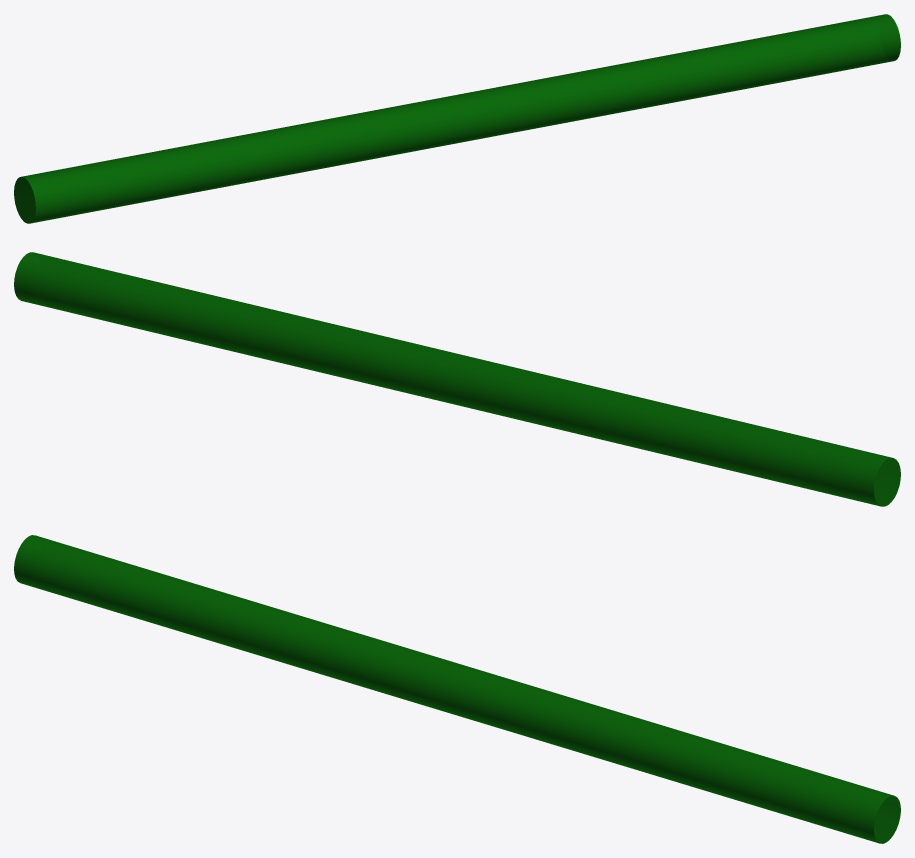
File: Event_194851961_jet_6.fbx
The picture shows the model from 3 angles, top to bottom: view 1: azimuth 30°, elevation 25°; view 2: azimuth 150°, elevation 25°; view 3: azimuth 330°, elevation 25°; orthographic projection. The views are drawn at different scales.
Parts seen in each view (by area): view 1: Model; view 2: Model; view 3: Model.
Part boxes in pixels (box(x1,y1,x2,y2)): Model: box(14, 14, 900, 223); Model: box(14, 252, 900, 506); Model: box(14, 535, 900, 843).
Size of the model in its own units: 0.8166 by 0.0642 by 0.0781.
